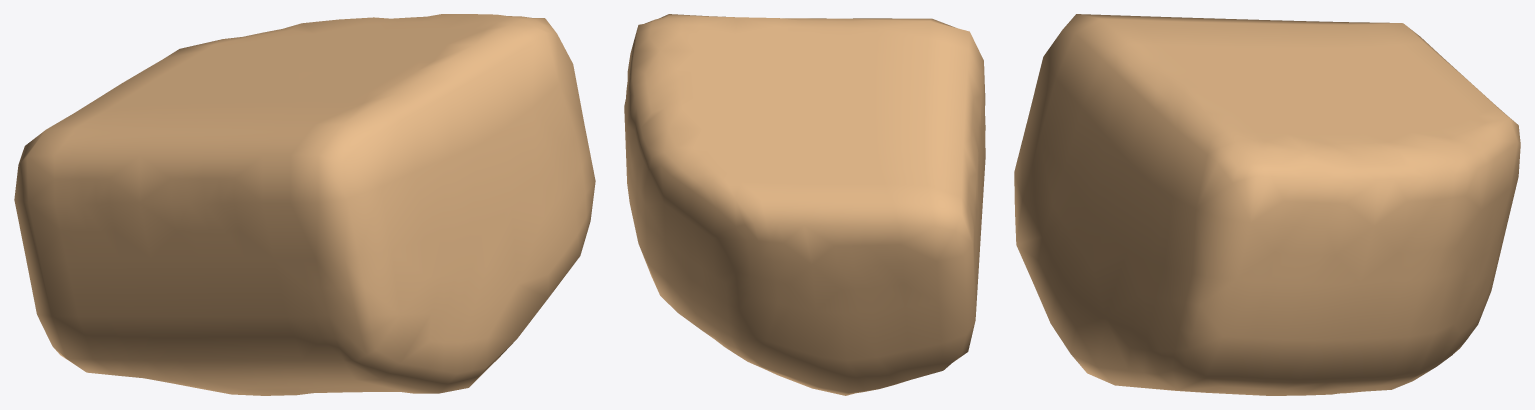
The model's file is thumb_01_l.dae.
3 renders of one model, left to right at view 1: azimuth 30°, elevation 25°; view 2: azimuth 150°, elevation 25°; view 3: azimuth 270°, elevation 25°, orthographic. The views are drawn at different scales.
Visible parts, largest first — view 1: skin_geo_thumb_01_r; view 2: skin_geo_thumb_01_r; view 3: skin_geo_thumb_01_r.
Boxes of the visible parts, x1=… form: skin_geo_thumb_01_r: x1=14, y1=14, x2=595, y2=395; skin_geo_thumb_01_r: x1=624, y1=14, x2=985, y2=395; skin_geo_thumb_01_r: x1=1014, y1=14, x2=1520, y2=395.
Size of the model in its own units: 0.0516 by 0.0456 by 0.0349.
